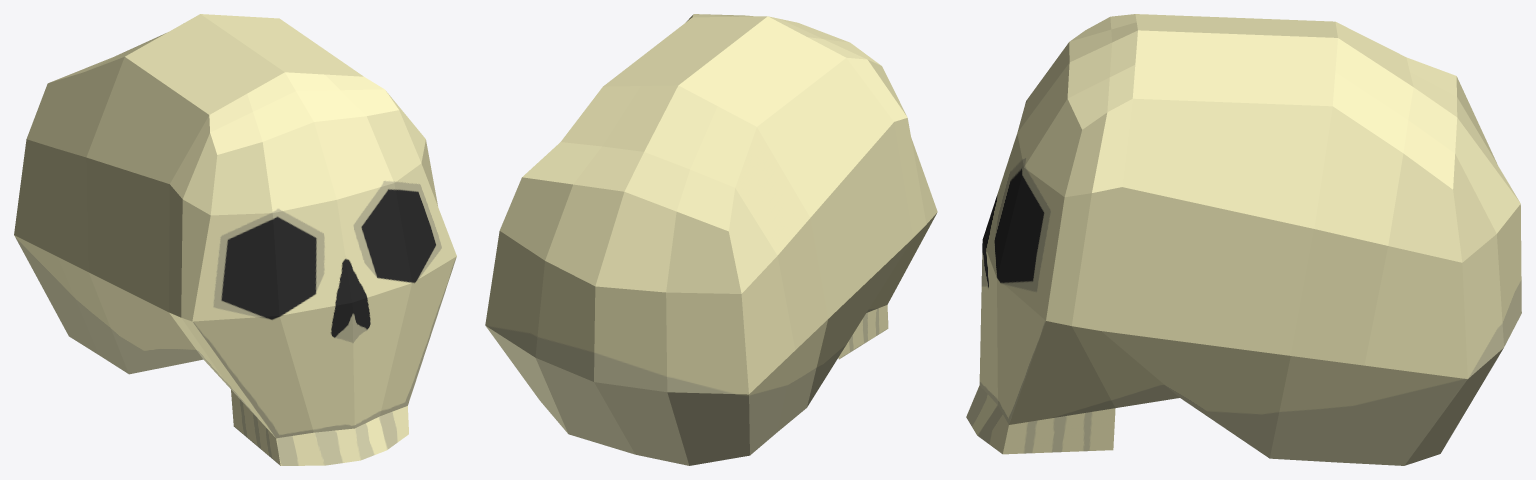
Rendered from Skull.fbx.
The picture shows the model from 3 angles, left to right: view 1: azimuth 30°, elevation 25°; view 2: azimuth 150°, elevation 25°; view 3: azimuth 270°, elevation 25°; orthographic projection. The views are drawn at different scales.
Parts seen in each view (by area): view 1: pCube7; view 2: pCube7; view 3: pCube7.
Part boxes in pixels (x1,y1,x2,y2): pCube7: (14, 14, 456, 465); pCube7: (485, 14, 937, 465); pCube7: (966, 14, 1521, 465).
Size of the model in its own units: 0.1915 by 0.2354 by 0.2983.
